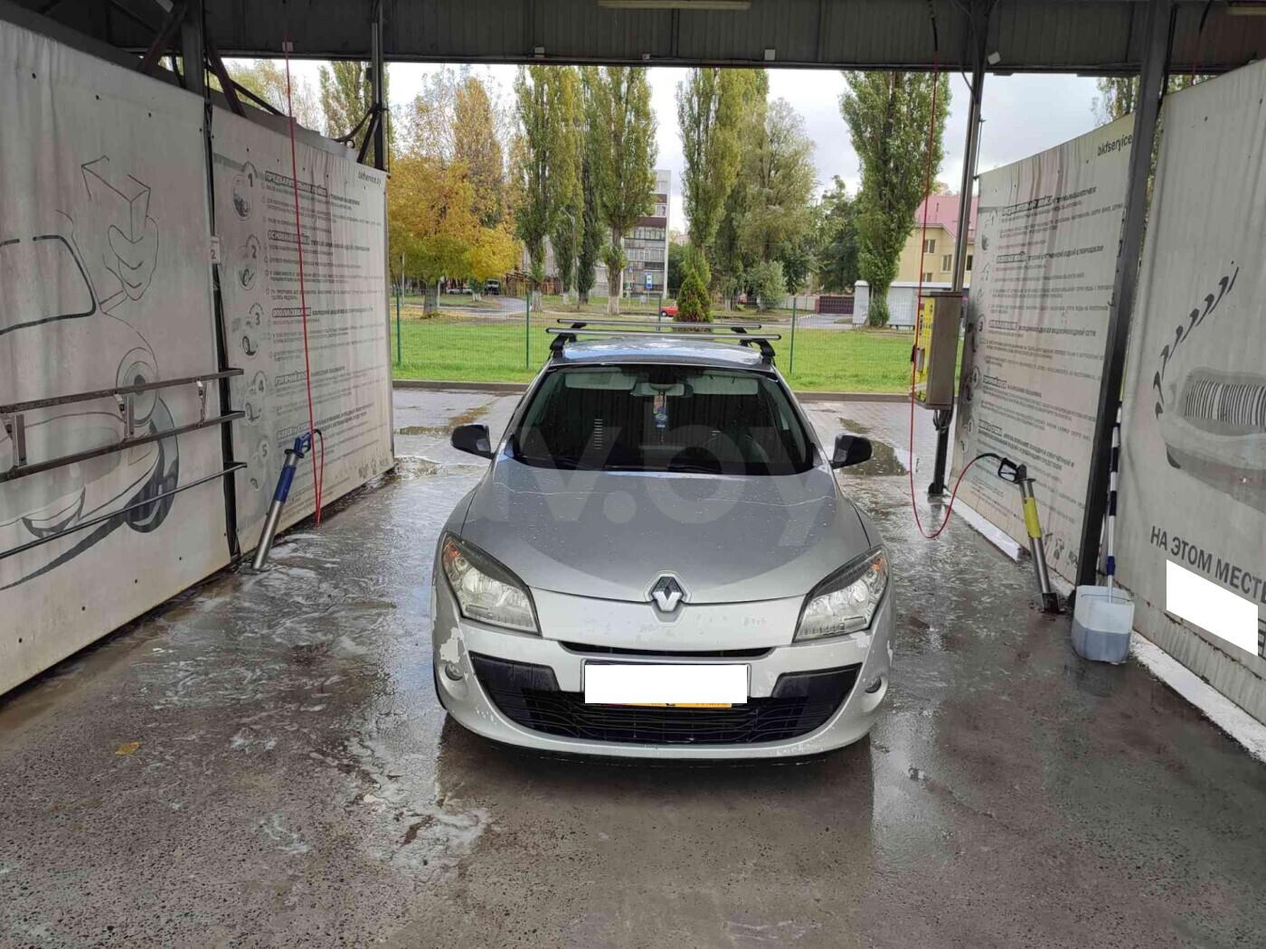Megane_2008-2014: (430, 329, 897, 763)
